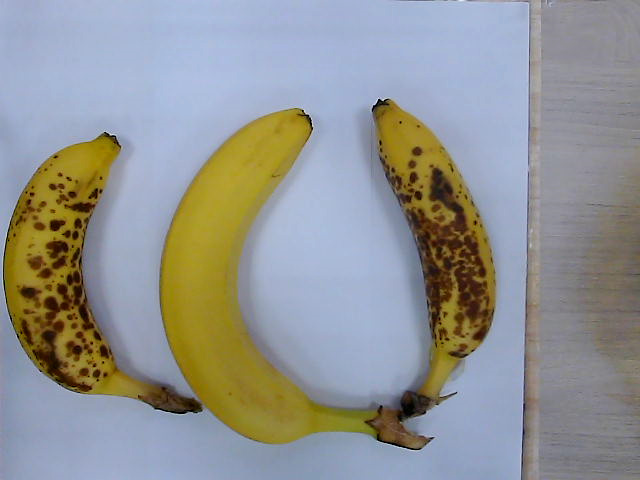fresh_banana: (160, 108, 429, 450)
rotten_banana: (4, 132, 202, 413), (371, 100, 495, 417)
